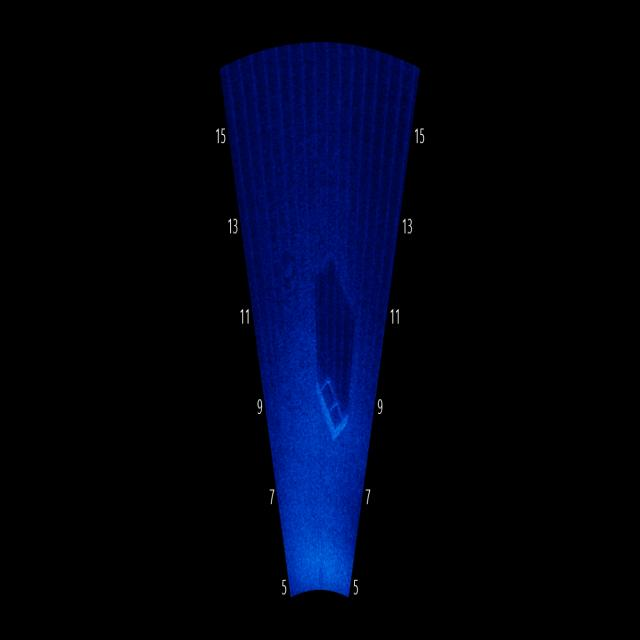square: (312, 358, 353, 444)
